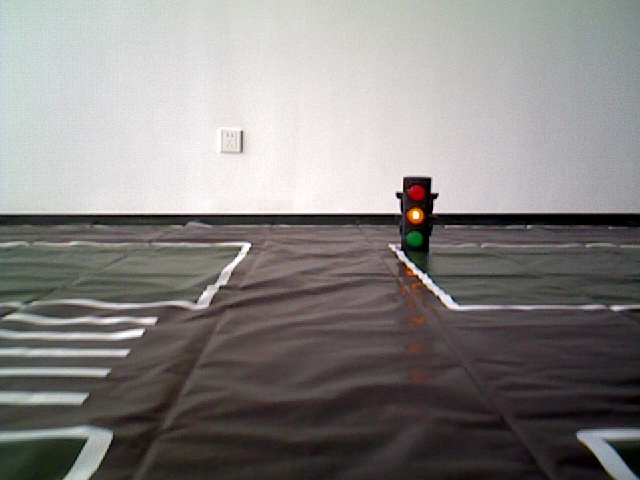yellow: (399, 174, 433, 252)
